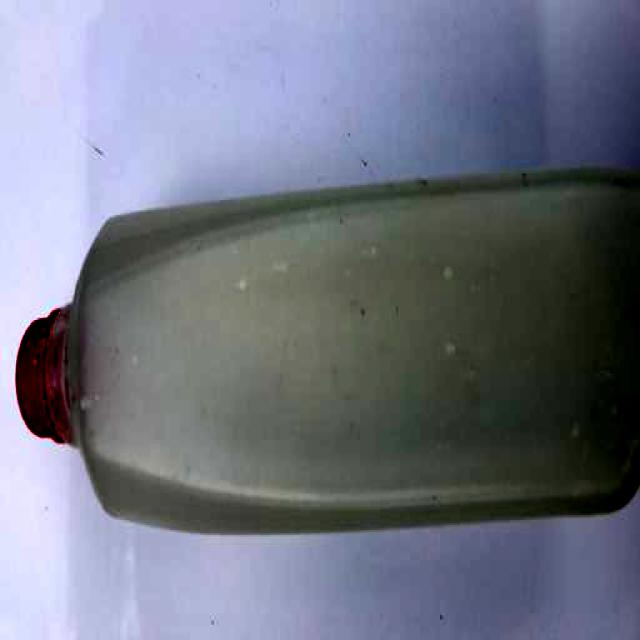Plastic: (11, 163, 640, 543)
